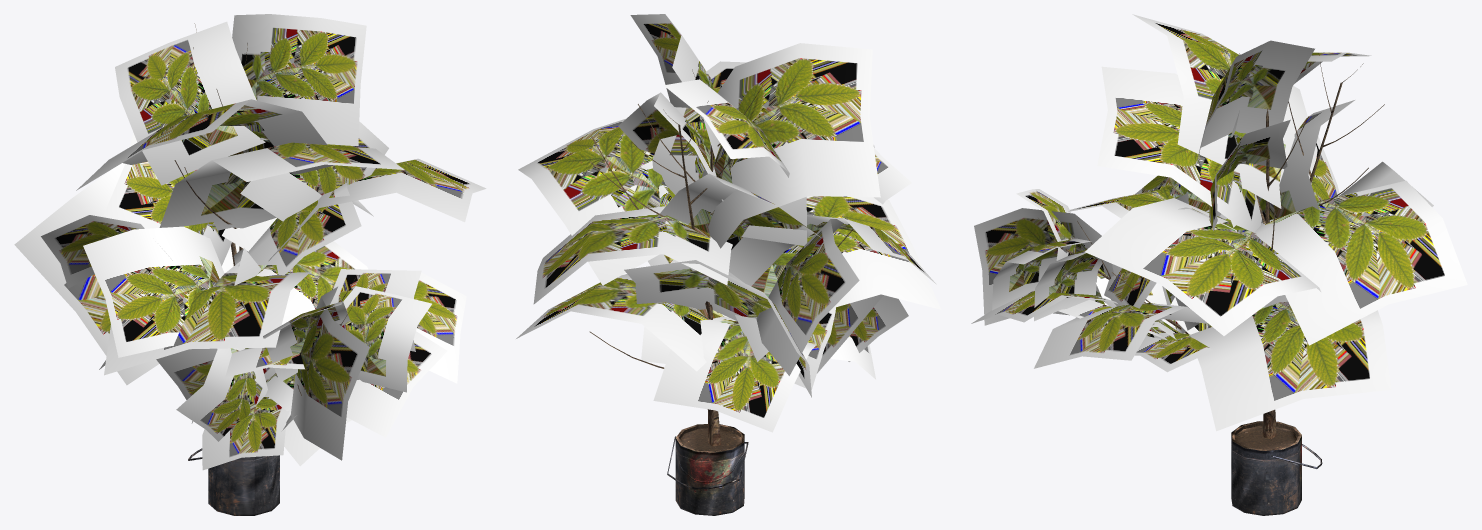
Rendered from potted plant 010.FBX.
3 views of the same model, side by side, from view 1: azimuth 30°, elevation 25°; view 2: azimuth 150°, elevation 25°; view 3: azimuth 270°, elevation 25° (orthographic). The views are drawn at different scales.
Visible parts, largest first — view 1: potted plant 010; view 2: potted plant 010; view 3: potted plant 010.
Part boxes in pixels (<box>): potted plant 010: <box>14,14,486,515</box>; potted plant 010: <box>516,14,941,515</box>; potted plant 010: <box>971,14,1467,515</box>.
Bounding box in the file's own units: 227 × 253 × 240.
Materials: 3 (3 with a texture image).
